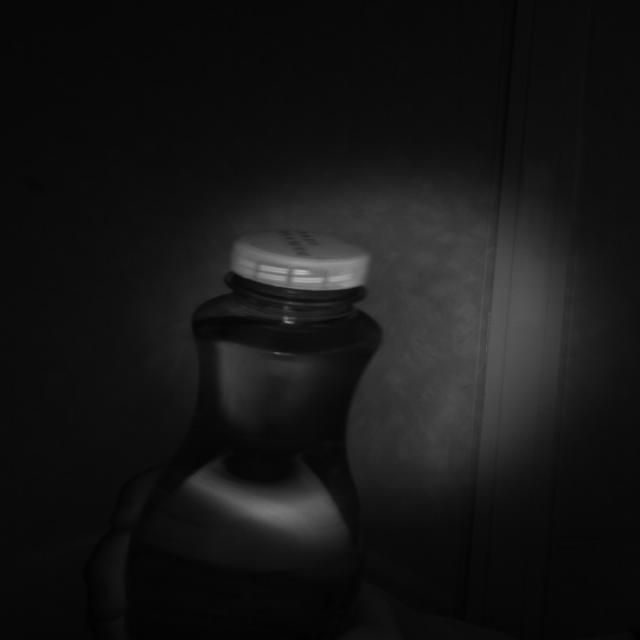Not Good: (224, 224, 370, 306)
